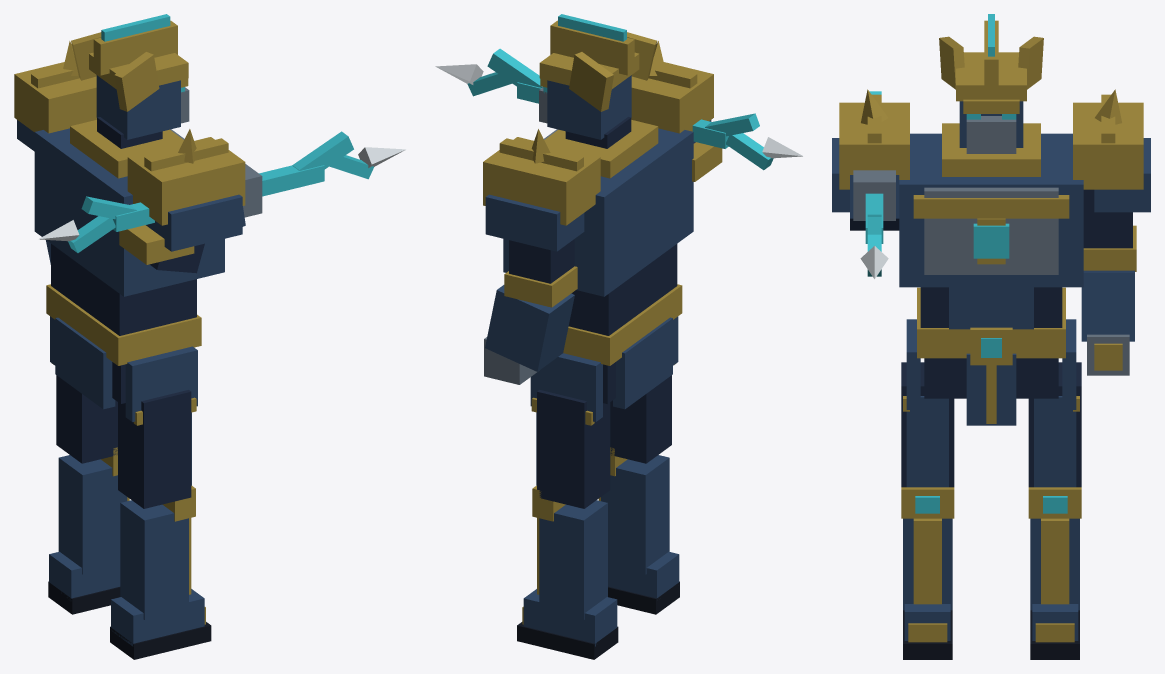
File: titan.glb
3 renders of one model, left to right at view 1: azimuth 30°, elevation 25°; view 2: azimuth 150°, elevation 25°; view 3: azimuth 270°, elevation 25°, orthographic. The views are drawn at different scales.
Parts seen in each view (by area): view 1: geometry_0; view 2: geometry_0; view 3: geometry_0.
Boxes of the visible parts, box(x1,y1,x2,y2) form: geometry_0: box(14, 14, 405, 659); geometry_0: box(435, 14, 802, 659); geometry_0: box(832, 14, 1150, 659).
Bounding box in the file's own units: 1.24 × 1.91 × 0.9.
